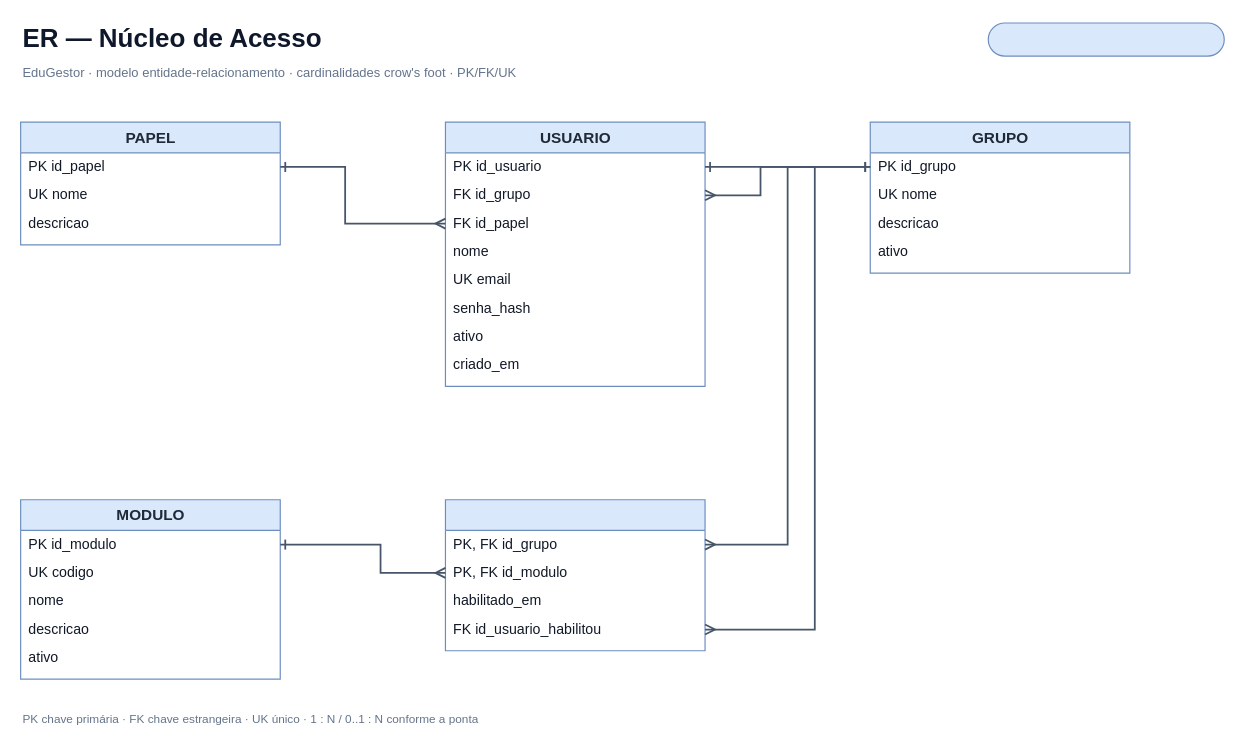
Image size: 1245x750. Some labels were removed from this diagram. Each missing label, with the box of its shape:
GRUPO_MODULO: (444, 499, 705, 651)
Núcleo de Acesso: (987, 22, 1224, 56)
